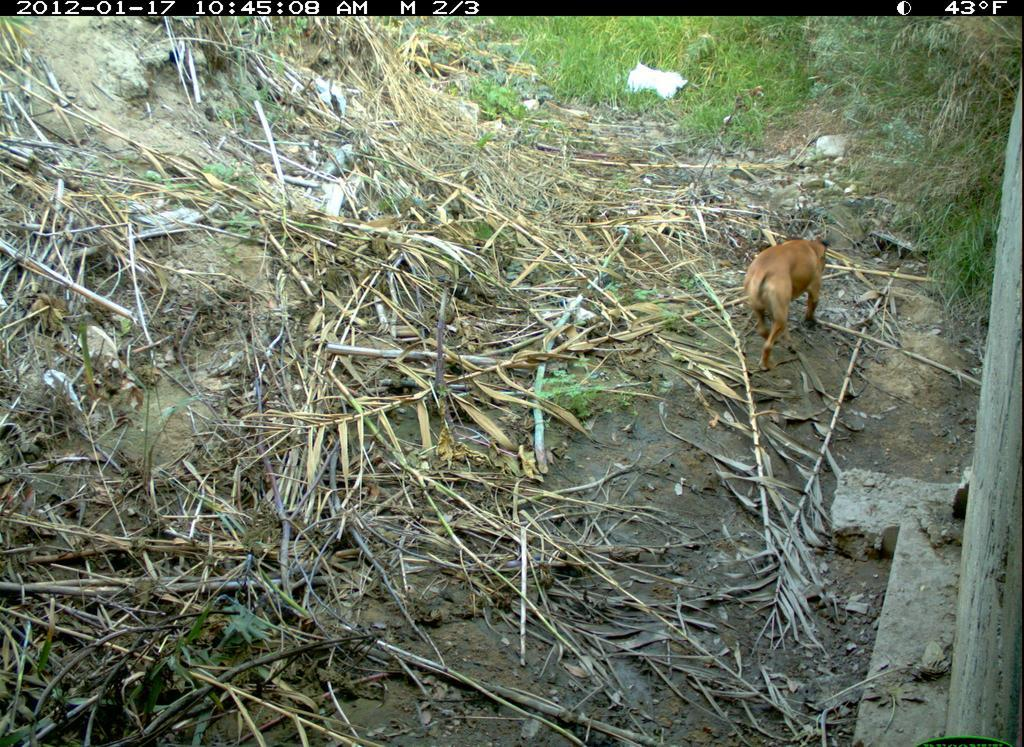dog: (742, 228, 839, 378)
